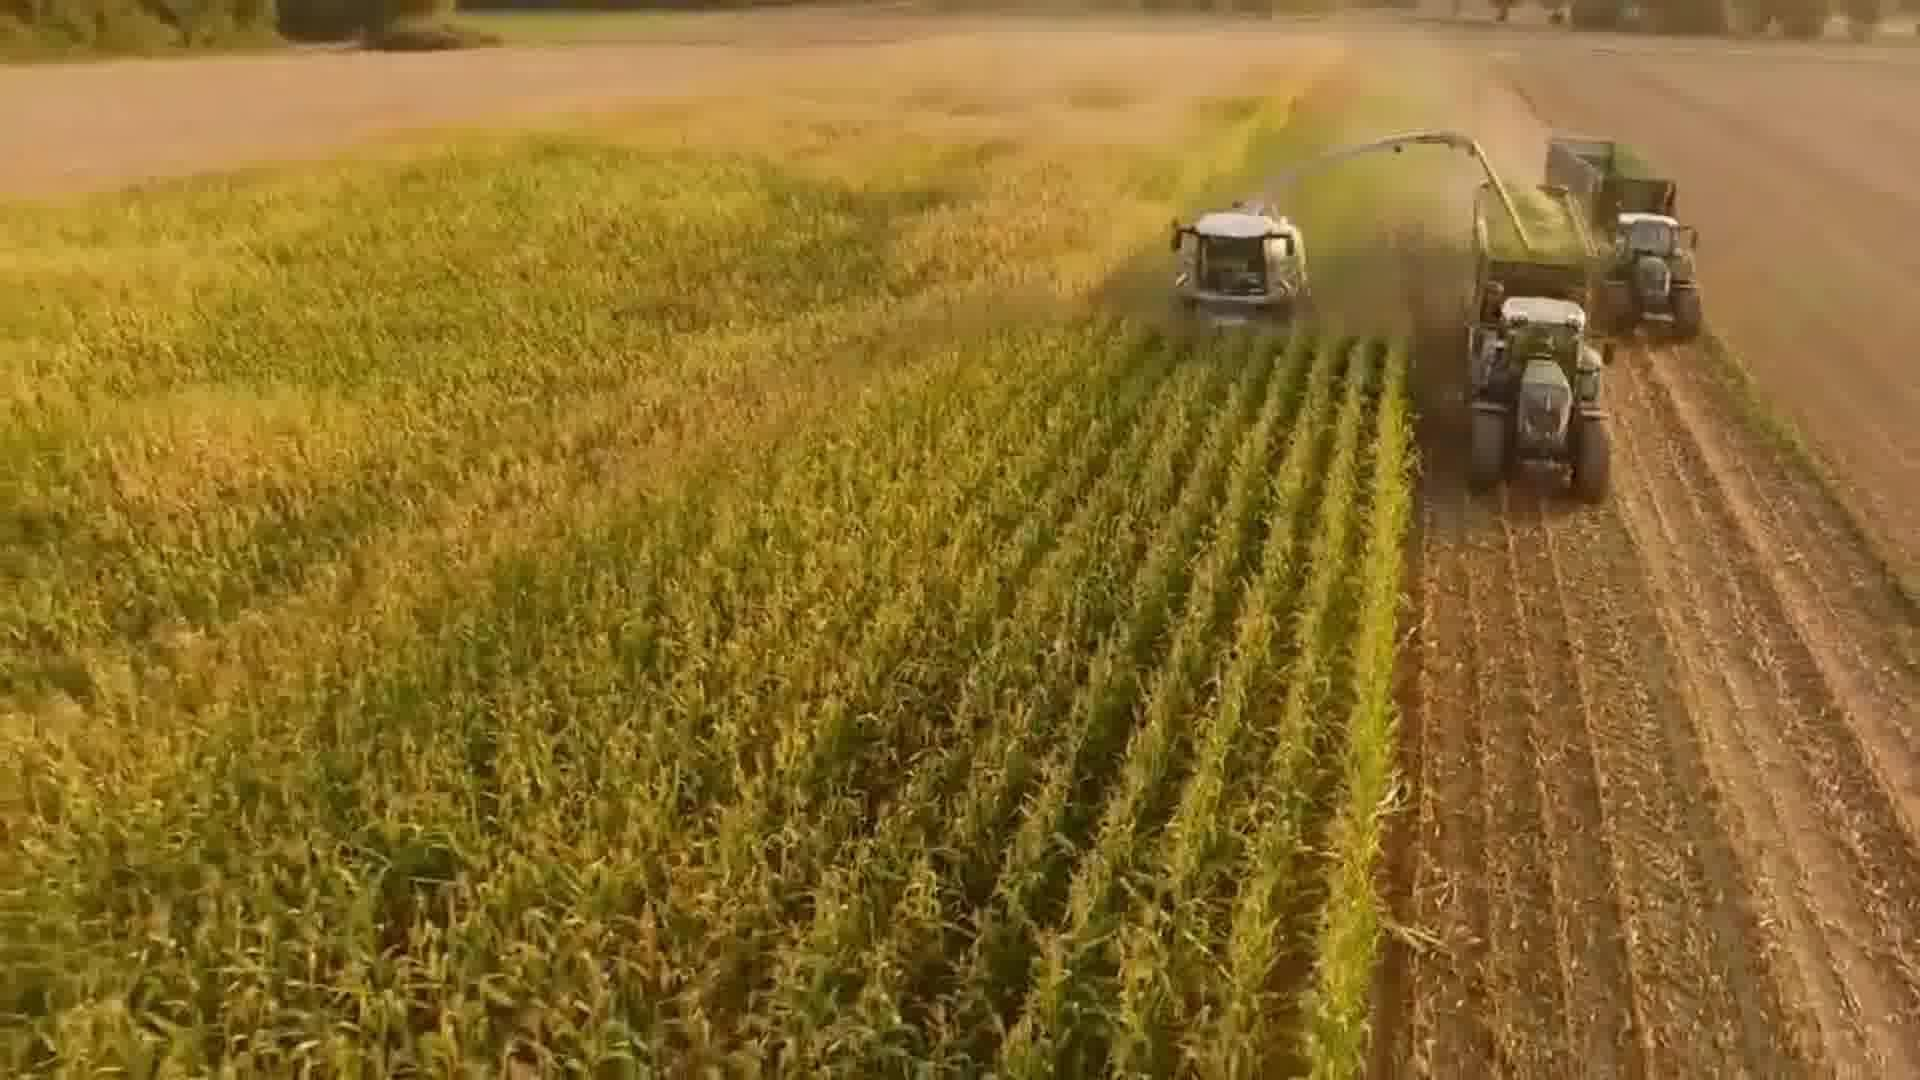combine harvester: (1159, 120, 1491, 351)
tractor: (1458, 293, 1623, 510), (1588, 207, 1714, 347)
trailer: (1456, 169, 1590, 311), (1545, 132, 1679, 216)
